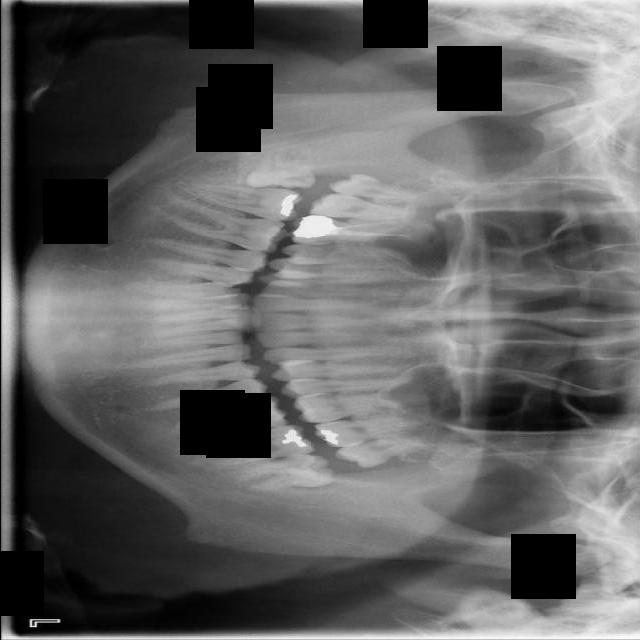3M ESPE Implant: (334, 170, 433, 207)
52: (269, 418, 316, 466), (251, 185, 304, 226), (289, 212, 342, 247), (311, 419, 363, 450)
73: (334, 215, 418, 245), (70, 592, 81, 594)
BioHorizons Implant: (311, 411, 431, 450)
BioLife Implant: (334, 429, 441, 470)
Biomet 3i Implant: (230, 450, 339, 497)
Blue Sky Bio Implant: (204, 422, 317, 468)
Caries: (317, 192, 413, 228)
Implant: (185, 178, 307, 226)
Keystone Dental Implant: (243, 144, 316, 193)
